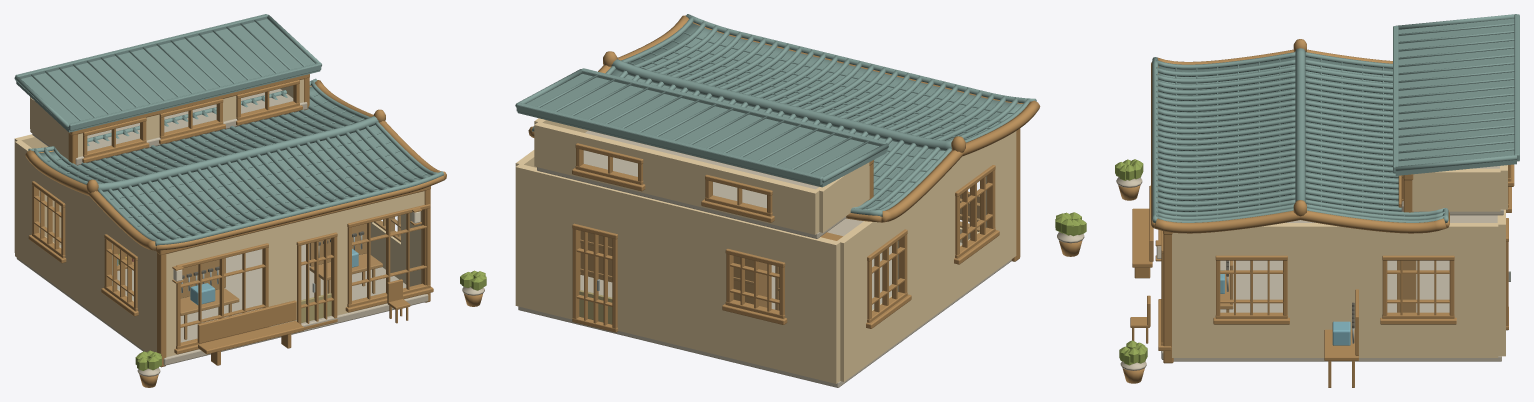
3 views of the same model, side by side, from view 1: azimuth 30°, elevation 25°; view 2: azimuth 150°, elevation 25°; view 3: azimuth 270°, elevation 25° (orthographic). The views are drawn at different scales.
Parts seen in each view (by area): view 1: SM_20_02_曲面屋顶, SM_20_01_建筑墙体, SM_20_04_门窗楼梯, SM_20_06_景观设施, SM_20_03_木构回廊, SM_20_05_景观植物; view 2: SM_20_01_建筑墙体, SM_20_02_曲面屋顶, SM_20_04_门窗楼梯, SM_20_06_景观设施, SM_20_05_景观植物, SM_20_03_木构回廊; view 3: SM_20_02_曲面屋顶, SM_20_01_建筑墙体, SM_20_04_门窗楼梯, SM_20_06_景观设施, SM_20_05_景观植物, SM_20_03_木构回廊.
Boxes of the visible parts, x1,y1,x2,y2 form: SM_20_02_曲面屋顶: [14, 14, 446, 250]; SM_20_01_建筑墙体: [14, 79, 428, 365]; SM_20_04_门窗楼梯: [28, 80, 433, 354]; SM_20_06_景观设施: [117, 223, 410, 365]; SM_20_03_木构回廊: [68, 74, 430, 367]; SM_20_05_景观植物: [135, 270, 486, 387]; SM_20_01_建筑墙体: [515, 118, 1016, 387]; SM_20_02_曲面屋顶: [515, 14, 1040, 222]; SM_20_04_门窗楼梯: [572, 143, 999, 332]; SM_20_06_景观设施: [580, 191, 979, 310]; SM_20_05_景观植物: [1055, 212, 1086, 256]; SM_20_03_木构回廊: [868, 128, 1020, 261]; SM_20_02_曲面屋顶: [1151, 14, 1519, 233]; SM_20_01_建筑墙体: [1161, 165, 1507, 361]; SM_20_04_门窗楼梯: [1155, 164, 1514, 350]; SM_20_06_景观设施: [1130, 185, 1416, 387]; SM_20_05_景观植物: [1115, 159, 1147, 383]; SM_20_03_木构回廊: [1163, 174, 1413, 363].
Size of the model in its own units: 10.95 by 5.19 by 9.34.
